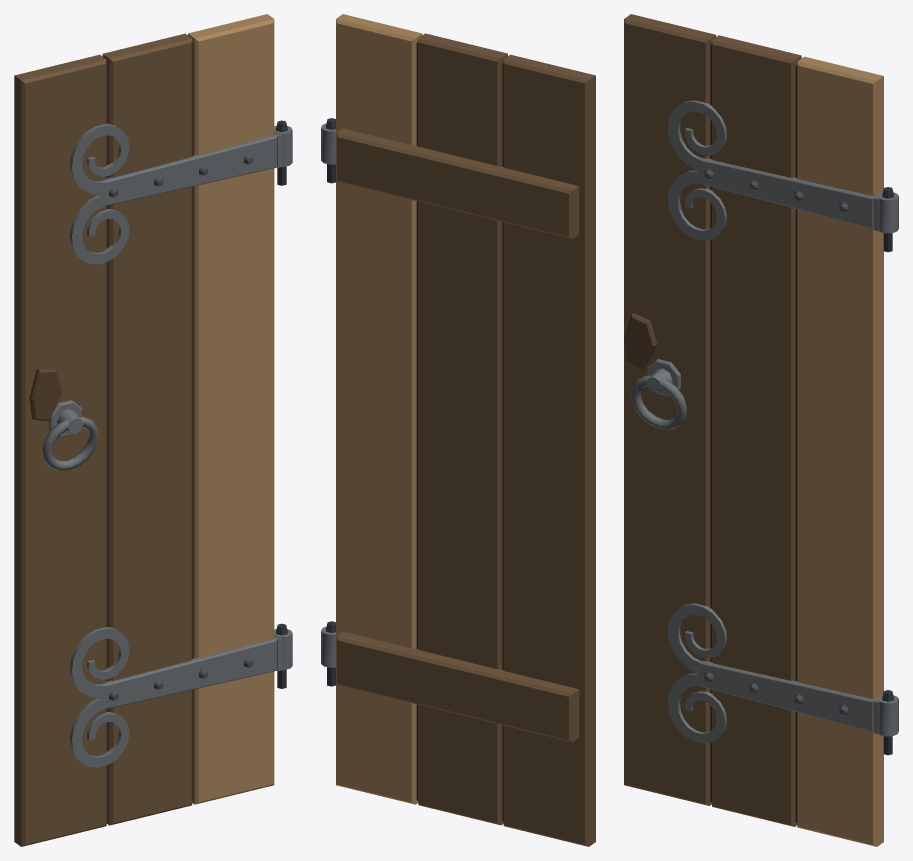
Rendered from SM_LPD_Door_ShutterPlank_01.fbx.
The picture shows the model from 3 angles, left to right: view 1: azimuth 30°, elevation 25°; view 2: azimuth 150°, elevation 25°; view 3: azimuth 330°, elevation 25°; orthographic projection.
Visible parts, largest first — view 1: SM_LPD_Door_ShutterPlank_01; view 2: SM_LPD_Door_ShutterPlank_01; view 3: SM_LPD_Door_ShutterPlank_01.
Part boxes in pixels (x1,y1,x2,y2): SM_LPD_Door_ShutterPlank_01: (14,14,292,846); SM_LPD_Door_ShutterPlank_01: (321,14,595,846); SM_LPD_Door_ShutterPlank_01: (624,14,898,846).
Bounding box in the file's own units: 0.644 × 1.74 × 0.1163.
